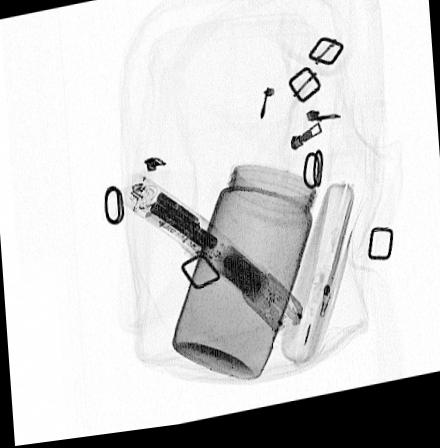Baton: (120, 174, 303, 343)
